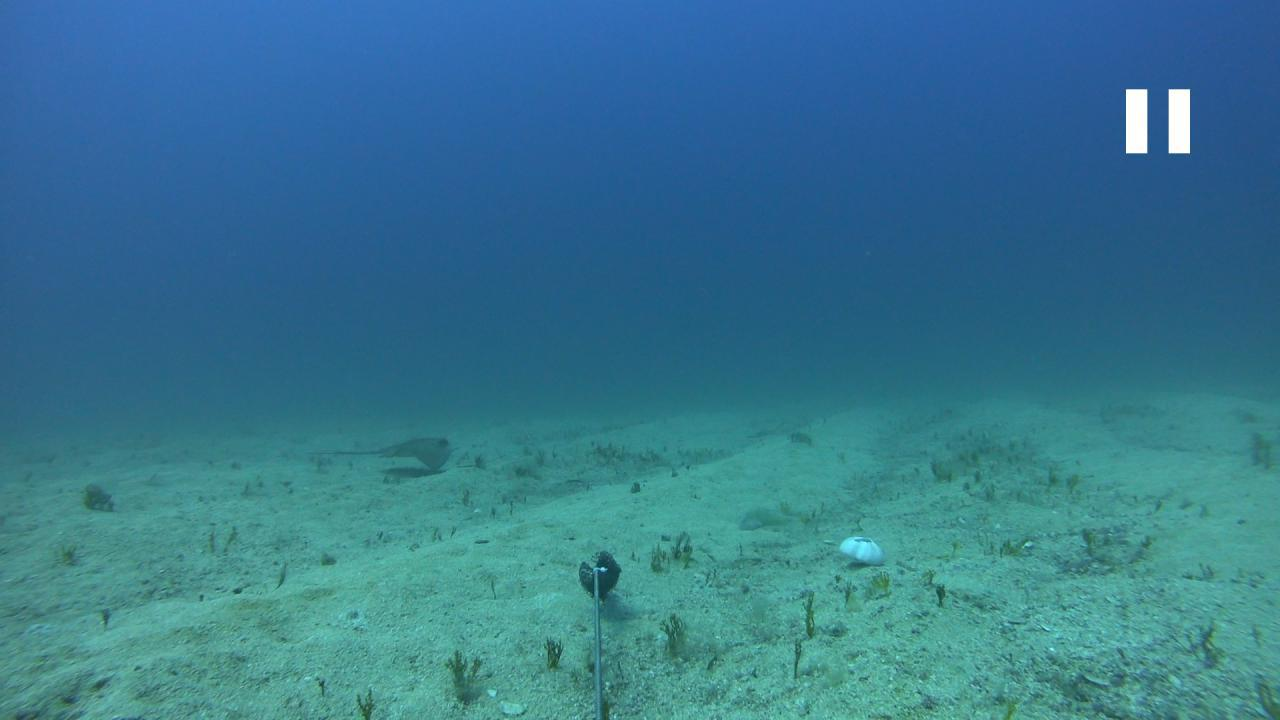dasyatis: (310, 434, 460, 468)
